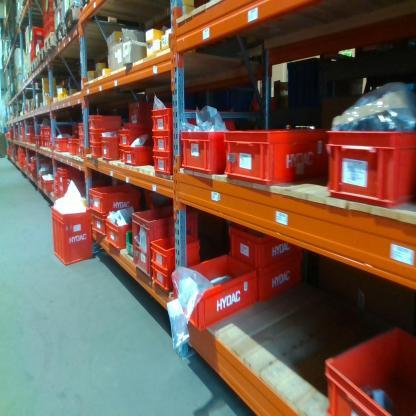pallets: (22, 4, 81, 83)
